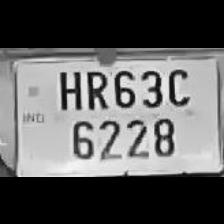2: (96, 112, 122, 160), (122, 113, 148, 159)
3: (136, 65, 163, 107)
6: (67, 114, 95, 160), (110, 66, 136, 108)
8: (149, 110, 177, 158)
C: (164, 64, 191, 106)
H: (53, 65, 83, 111)
R: (82, 64, 108, 110)
